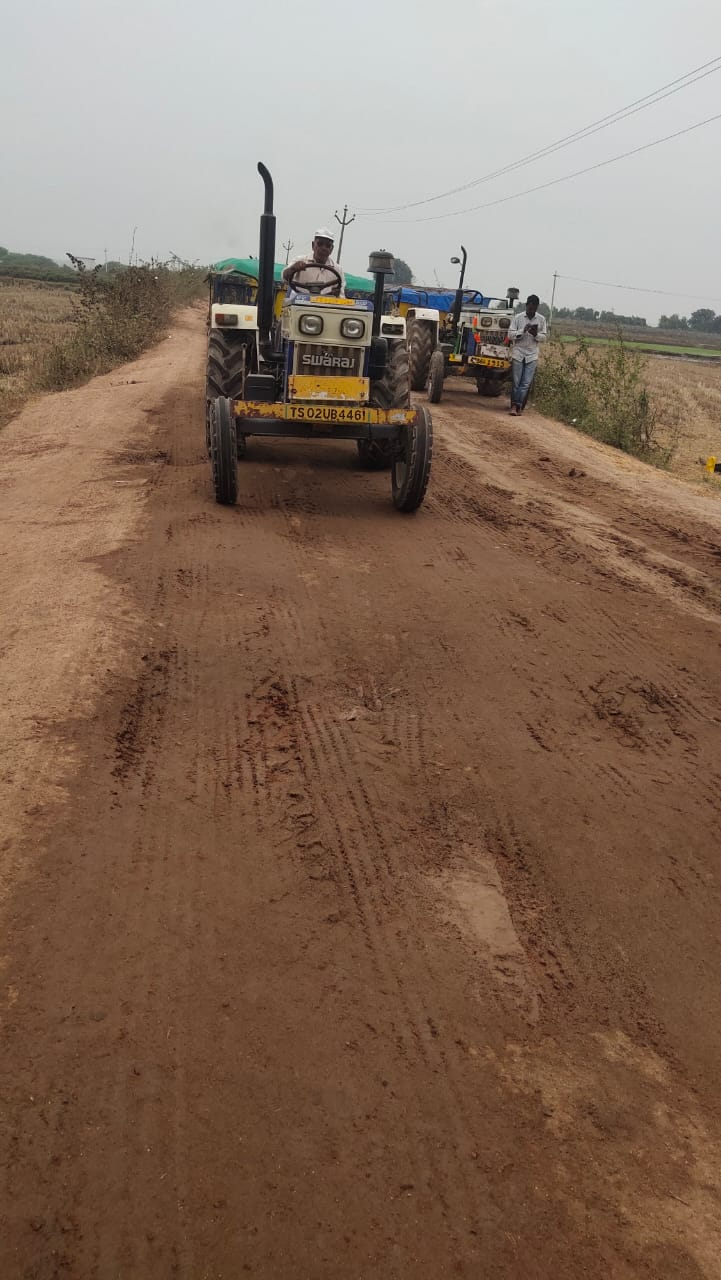num_plate: (285, 405, 371, 422)
